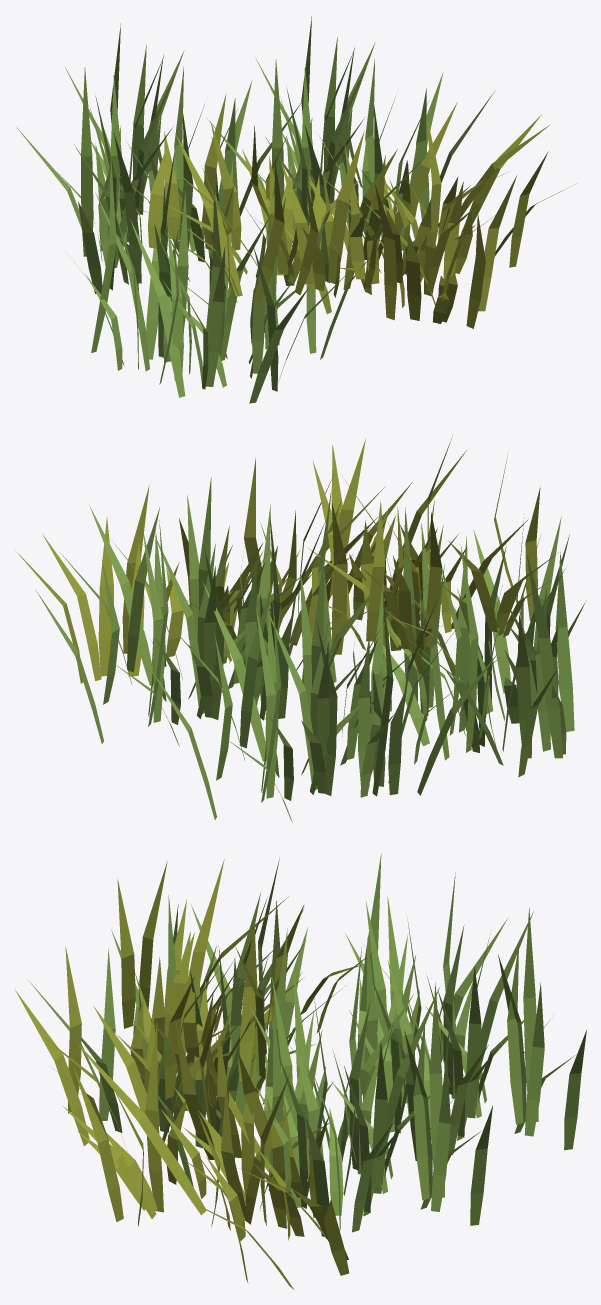
Rendered from blob.glb.
3 renders of one model, top to bottom at view 1: azimuth 30°, elevation 25°; view 2: azimuth 150°, elevation 25°; view 3: azimuth 270°, elevation 25°, orthographic. The views are drawn at different scales.
Visible parts, largest first — view 1: Floor|Gras 4|Dupli|39_Material.005_0, Floor|Gras 2|Dupli|61_Material.003_0, Floor|Gras 2|Dupli|61_Material.003_0.002, Floor|Gras 4|Dupli|39_Material.005_0.001, Floor|Gras 2|Dupli|61_Material.003_0.001; view 2: Floor|Gras 2|Dupli|61_Material.003_0.002, Floor|Gras 2|Dupli|61_Material.003_0, Floor|Gras 2|Dupli|61_Material.003_0.001, Floor|Gras 4|Dupli|39_Material.005_0, Floor|Gras 4|Dupli|39_Material.005_0.001; view 3: Floor|Gras 2|Dupli|61_Material.003_0.001, Floor|Gras 4|Dupli|39_Material.005_0.001, Floor|Gras 2|Dupli|61_Material.003_0.002, Floor|Gras 4|Dupli|39_Material.005_0, Floor|Gras 2|Dupli|61_Material.003_0.
Part boxes in pixels (bbox=[...]): Floor|Gras 4|Dupli|39_Material.005_0: bbox=[147, 94, 497, 320]; Floor|Gras 2|Dupli|61_Material.003_0: bbox=[67, 148, 382, 403]; Floor|Gras 2|Dupli|61_Material.003_0.002: bbox=[16, 23, 302, 293]; Floor|Gras 4|Dupli|39_Material.005_0.001: bbox=[284, 102, 576, 328]; Floor|Gras 2|Dupli|61_Material.003_0.001: bbox=[207, 16, 494, 285]; Floor|Gras 2|Dupli|61_Material.003_0.002: bbox=[148, 553, 497, 822]; Floor|Gras 2|Dupli|61_Material.003_0: bbox=[374, 507, 586, 777]; Floor|Gras 2|Dupli|61_Material.003_0.001: bbox=[35, 477, 384, 746]; Floor|Gras 4|Dupli|39_Material.005_0: bbox=[300, 438, 558, 675]; Floor|Gras 4|Dupli|39_Material.005_0.001: bbox=[14, 458, 401, 683]; Floor|Gras 2|Dupli|61_Material.003_0.001: bbox=[251, 928, 492, 1236]; Floor|Gras 4|Dupli|39_Material.005_0.001: bbox=[63, 993, 349, 1289]; Floor|Gras 2|Dupli|61_Material.003_0.002: bbox=[345, 854, 586, 1160]; Floor|Gras 4|Dupli|39_Material.005_0: bbox=[15, 859, 376, 1151]; Floor|Gras 2|Dupli|61_Material.003_0: bbox=[28, 857, 346, 1186].
Bounding box in the file's own units: 7.54 × 3.6 × 6.84.
